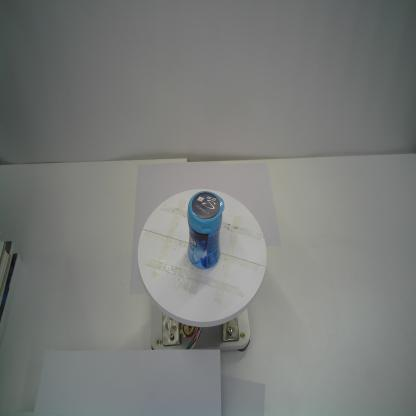Gum: (187, 191, 225, 270)
